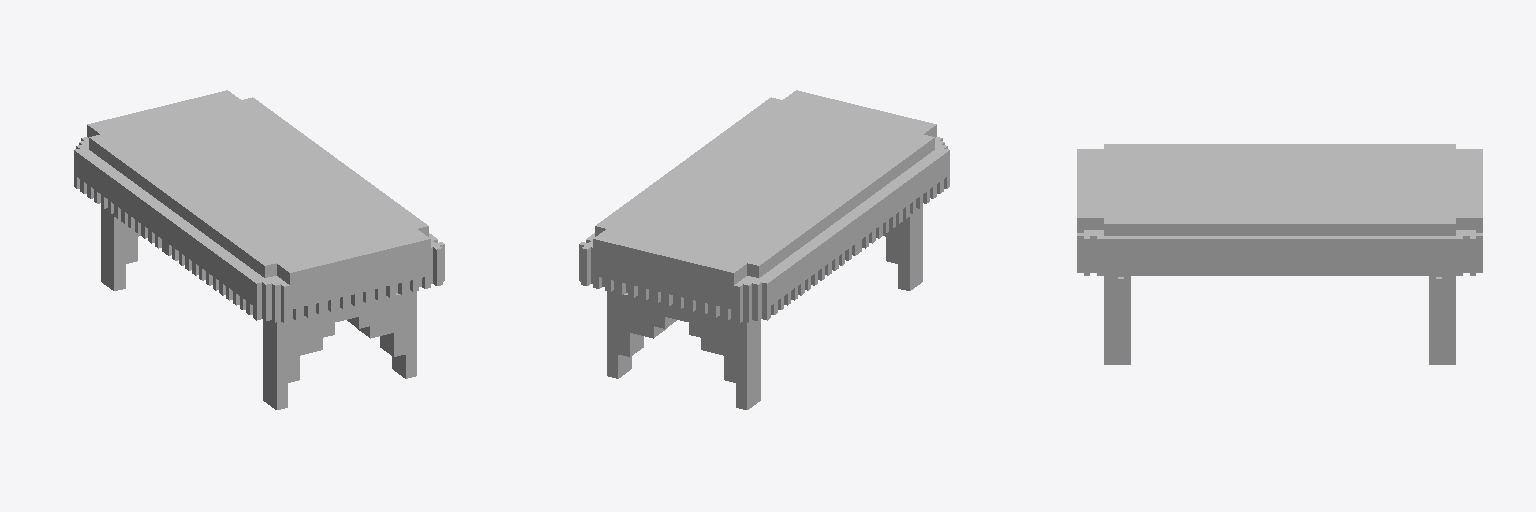
File: table with.obj
3 views of the same model, side by side, from view 1: azimuth 30°, elevation 25°; view 2: azimuth 150°, elevation 25°; view 3: azimuth 270°, elevation 25° (orthographic).
Bounding box in the file's own units: 31 × 24 × 60.